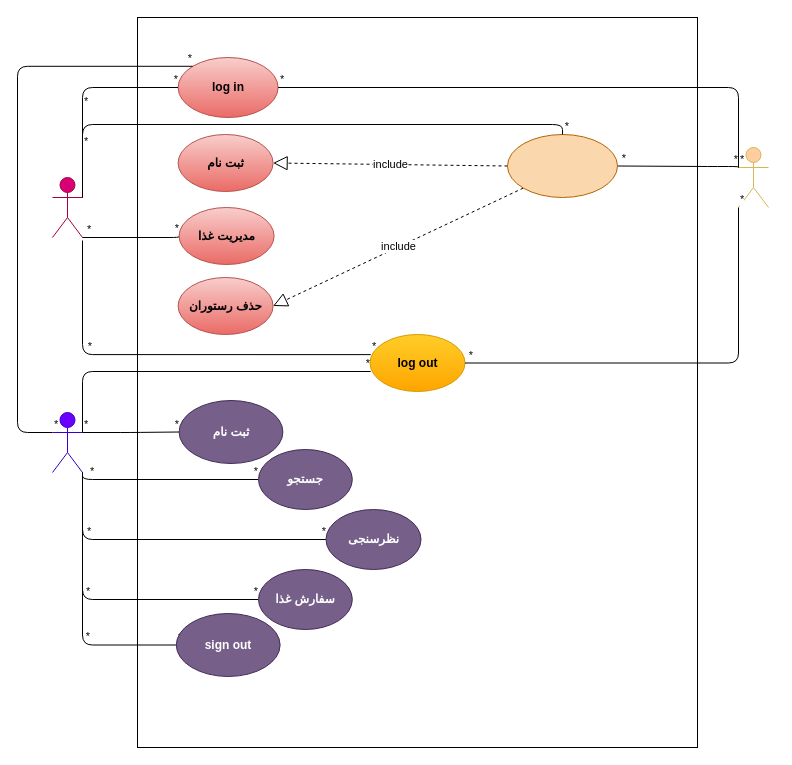
Image size: 792x765. Some labels were removed from this diagram. The centre of each missing label's shape, as x and y in pixels:
"admin" goes at point 753,177.
"customer" goes at point 67,442.
"seller" goes at point 67,207.
"مدیریت رستوران ها" goes at point 562,166.
